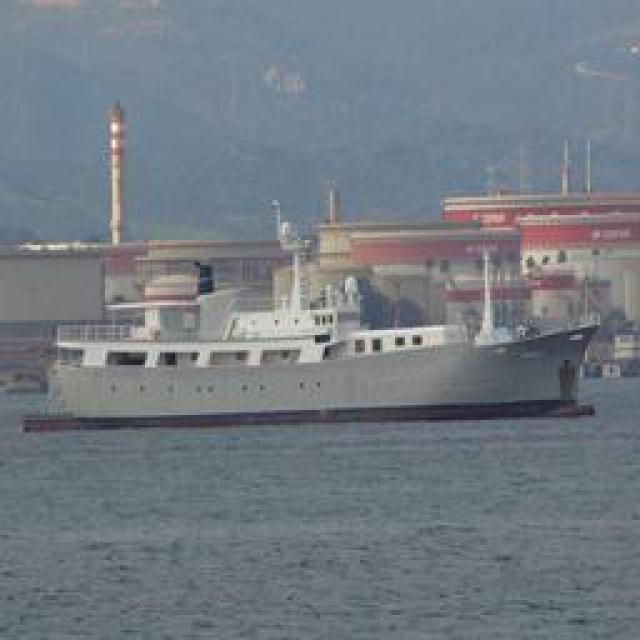Ship: (28, 229, 613, 429)
